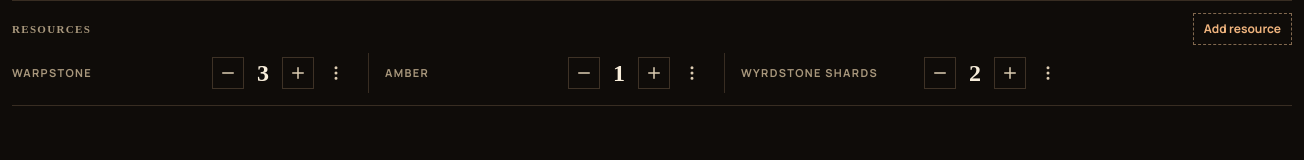
Scenario: Sell › prices the default resource from the table at the warband's band, which can be changed
Later steps or results of the test are not shown.
Click the button named "Warpstone actions": (336, 73) 320,57 -> 352,89
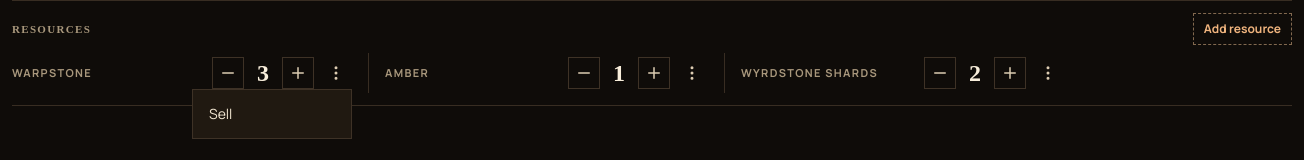
Click the menu item "Sell": (221, 114) 209,104 -> 232,123
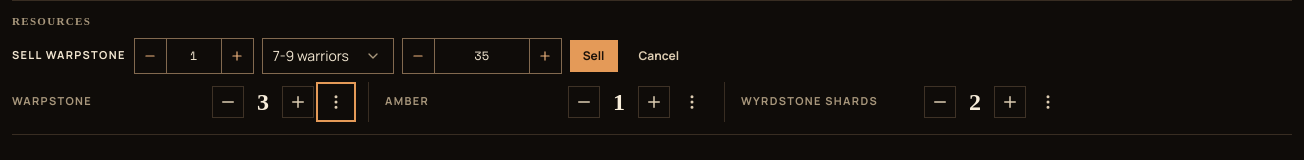
Check: the dropdown named "Warband size" shows "7-9 warriors", box 262,38 -> 394,74
Check: the number field named "Price in gold" holds "35", box 434,38 -> 530,74
Replace the text in the number field named "How many" with "3": (194, 56) 166,38 -> 222,74
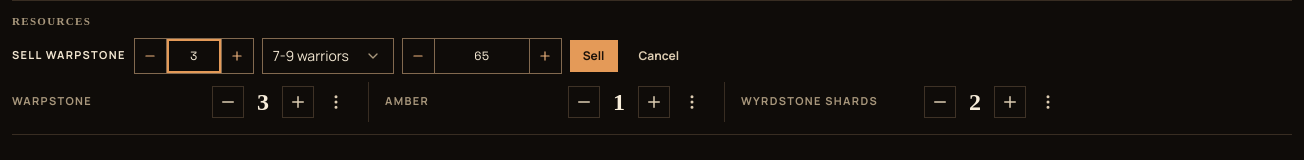
Check: the number field named "Price in gold" holds "65", box 434,38 -> 530,74
Select "4-6 warriors" in the dropdown named "Warband size": (328, 56) 262,38 -> 394,74
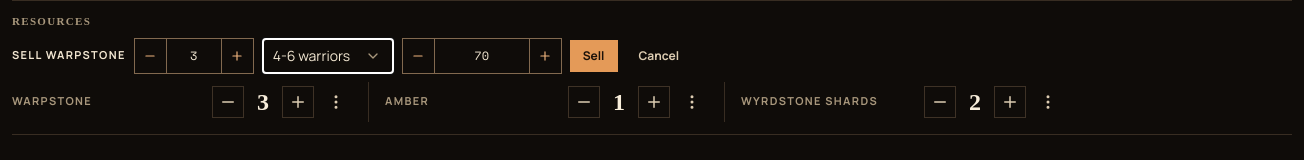
Check: the number field named "Price in gold" holds "70", box 434,38 -> 530,74
